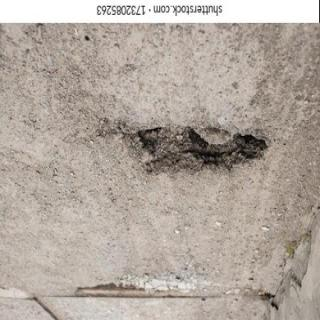pothole: (135, 124, 268, 174)
